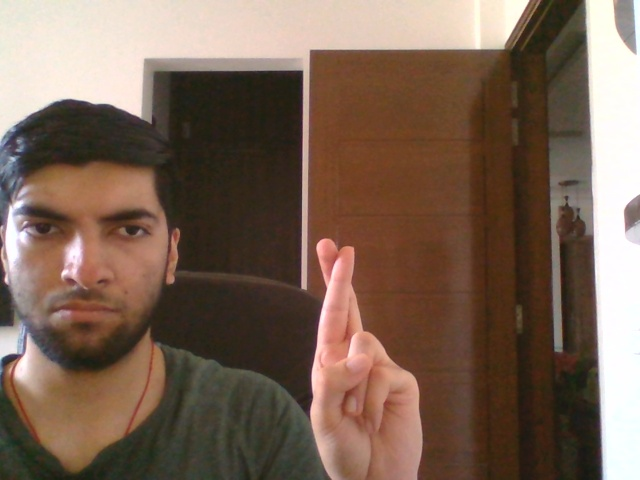LetterR: (308, 235, 425, 478)
